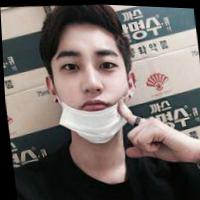WRONG: (50, 42, 136, 136)
